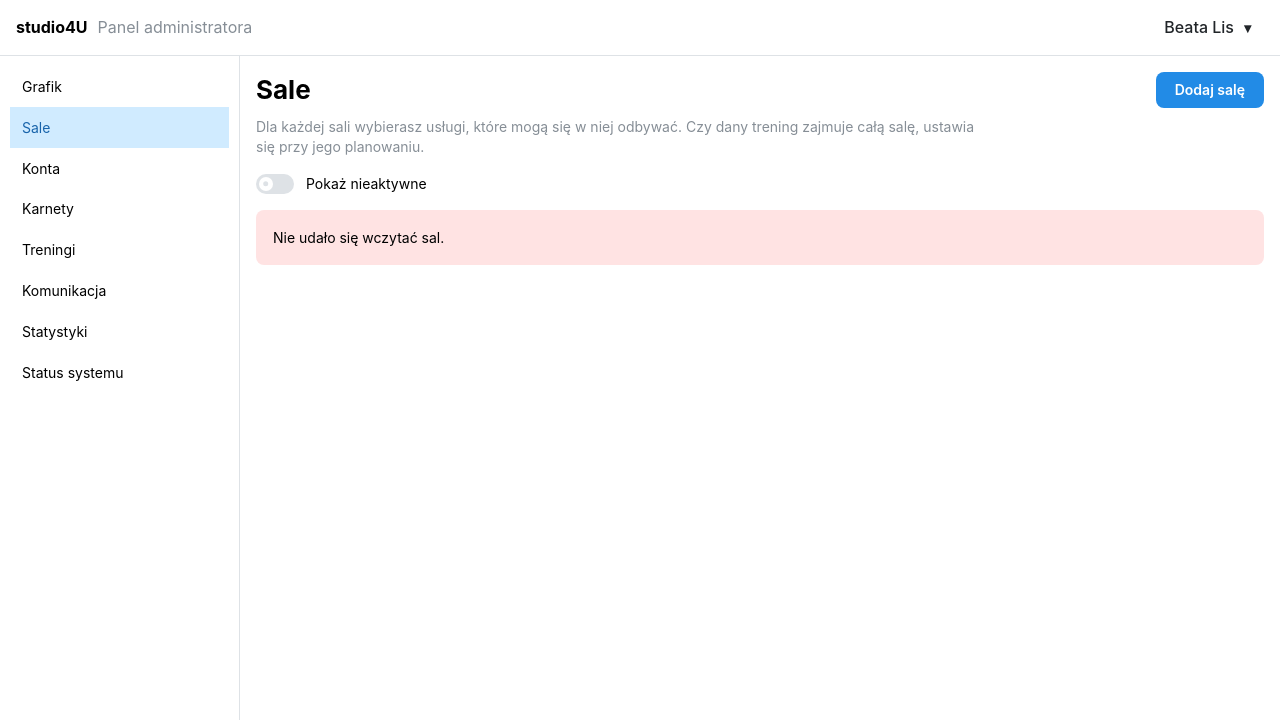
Test: changes the password from the account menu
Click the button "Beata Lis ▾" at (1205, 28), box [1145, 10, 1264, 46]
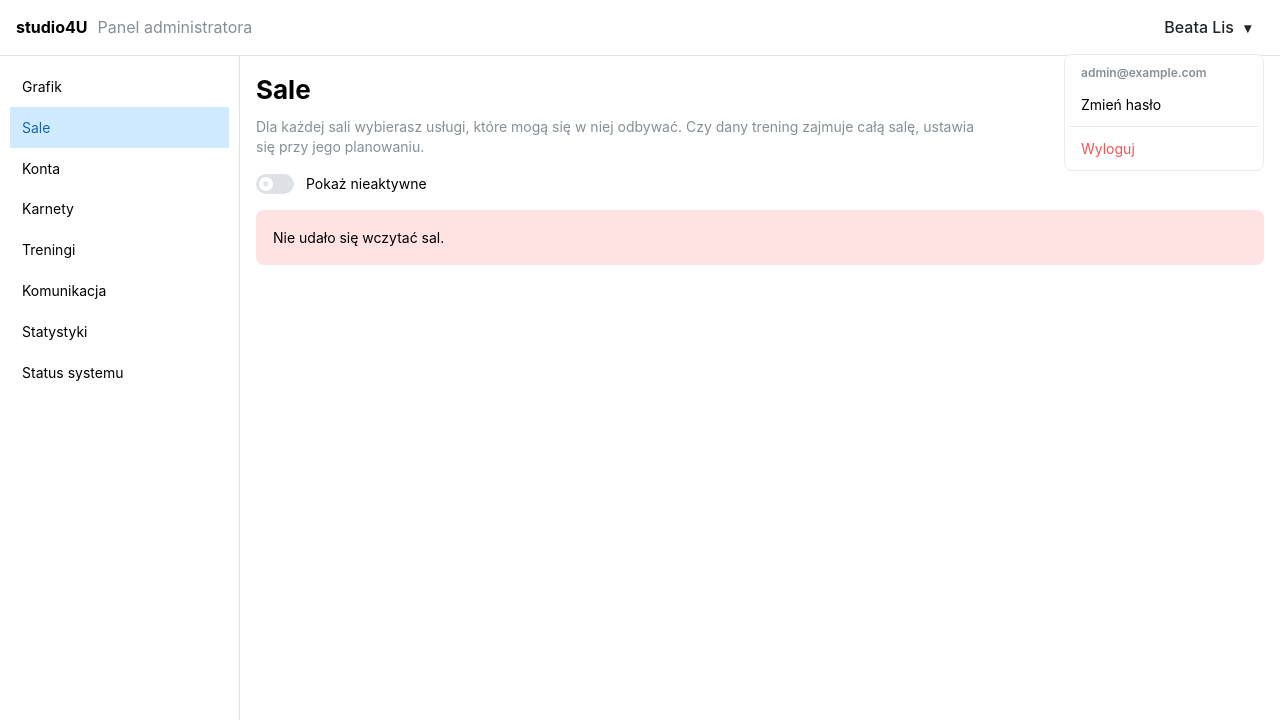
Click the menu item "Zmień hasło" at (1164, 105), box [1069, 87, 1259, 122]
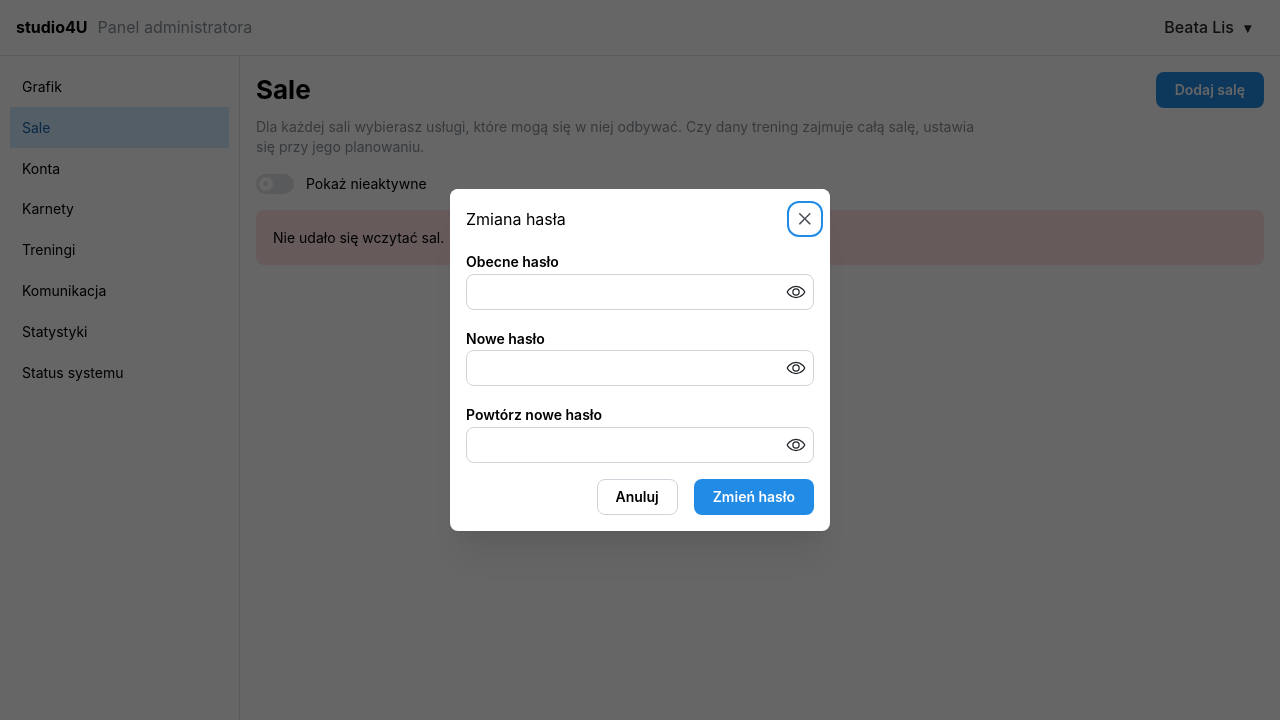
Type "stare-haslo" into the password field labelled "Obecne hasło" at (640, 292), box [467, 275, 813, 309]
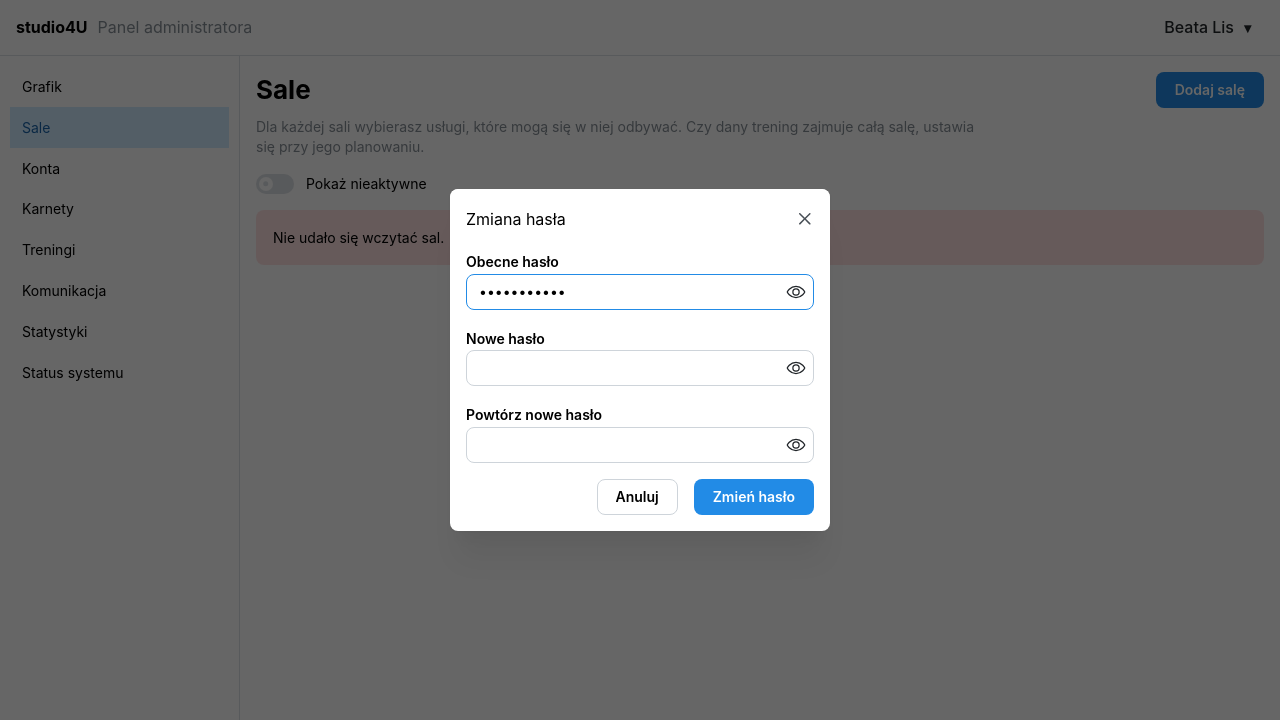
Type "nowe-haslo-123" into the password field labelled "Nowe hasło" at (640, 368), box [467, 351, 813, 385]
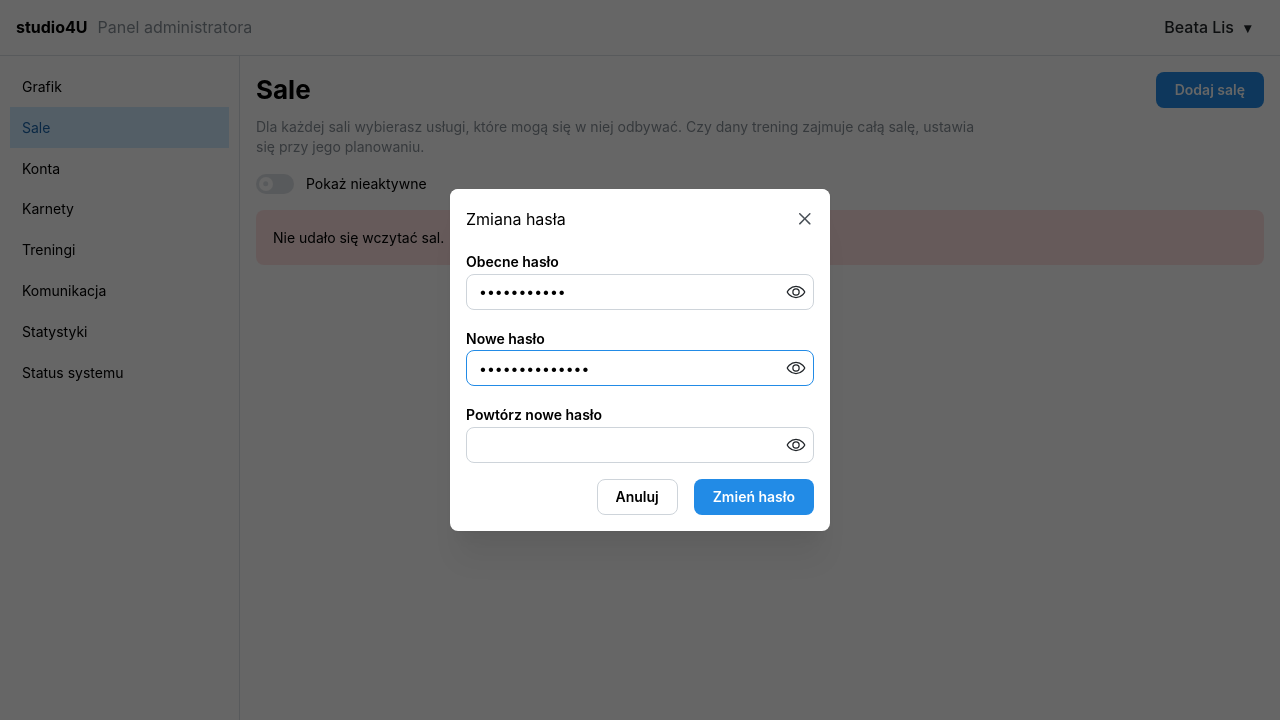
Type "nowe-haslo-123" into the password field labelled "Powtórz nowe hasło" at (640, 445), box [467, 428, 813, 462]
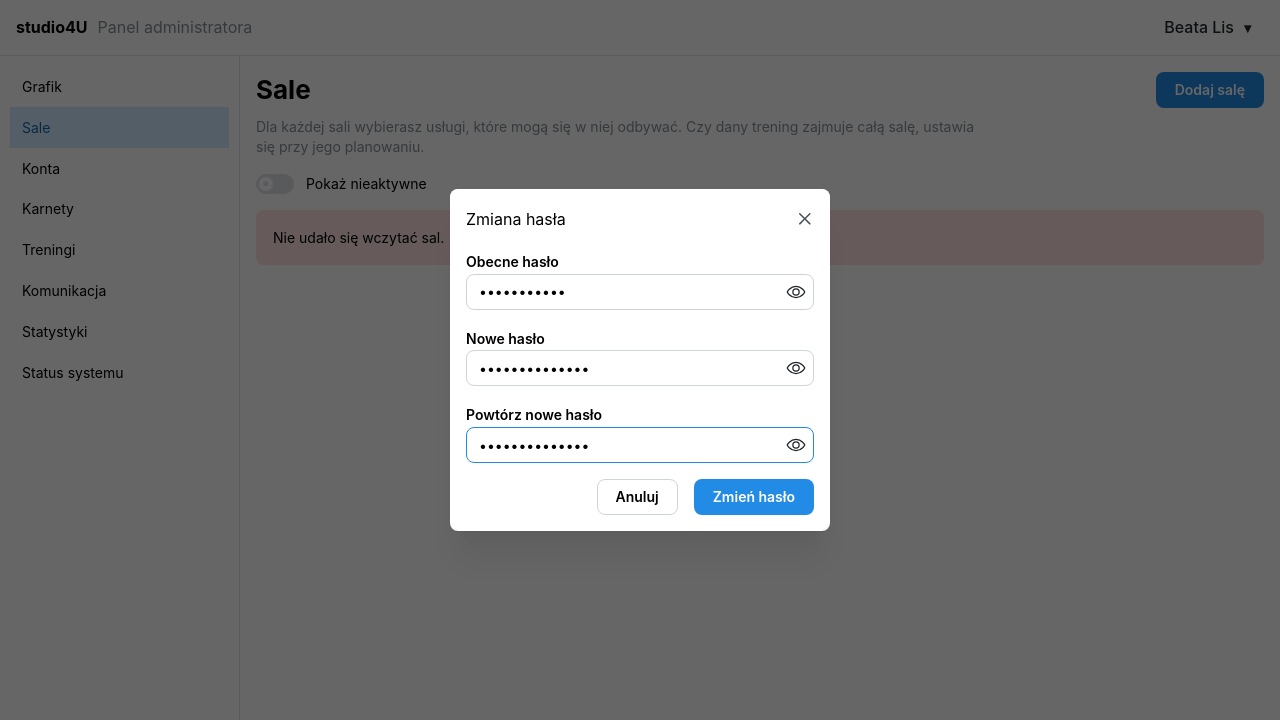
Click the button "Zmień hasło" at (754, 497), box [694, 479, 814, 515]
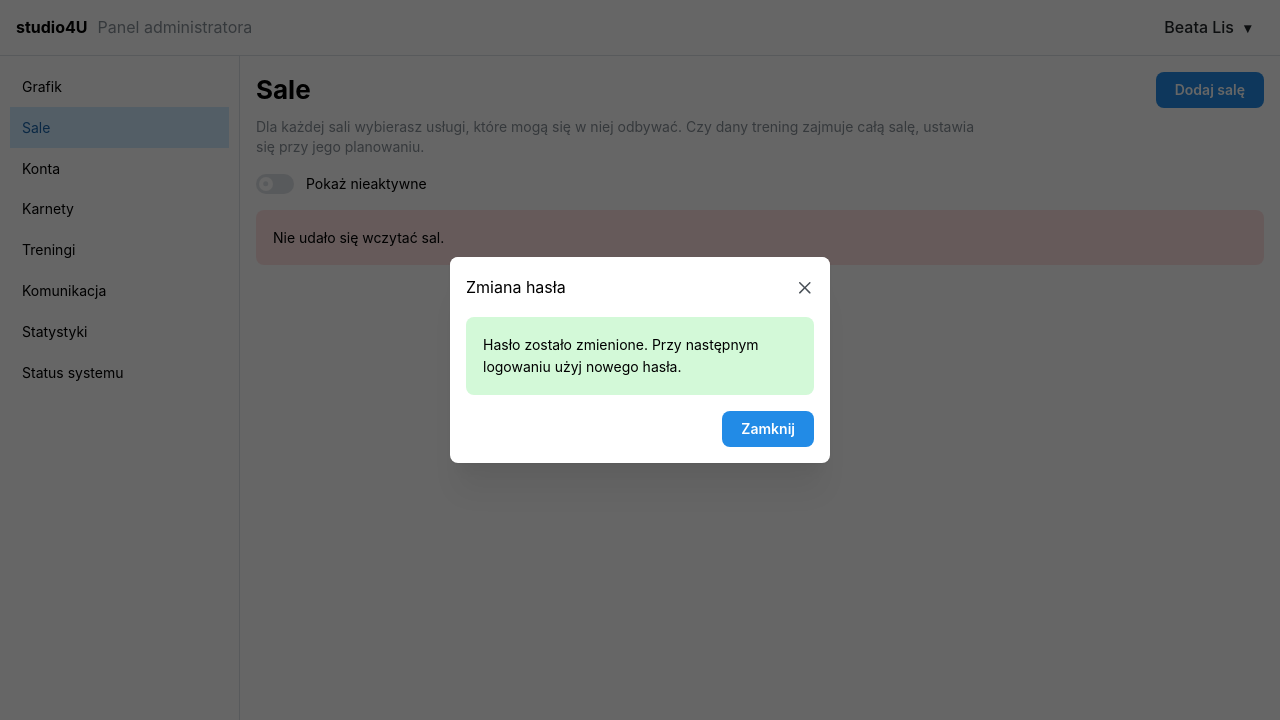
Now the message reads "Hasło zostało zmienione. Przy następnym logowaniu użyj nowego hasła.", box [483, 336, 759, 375]
